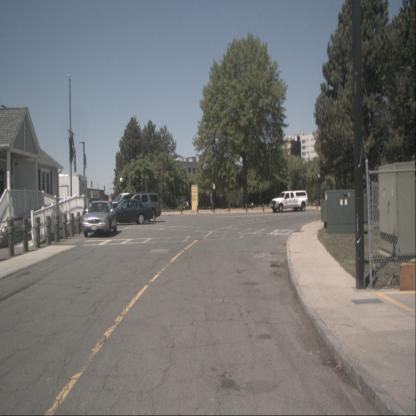human-pedestrian-adult: (209, 192, 213, 212)
vehicle-car: (119, 192, 161, 224), (82, 200, 117, 238), (105, 198, 153, 225)
vehicle-truck: (271, 190, 308, 213)
